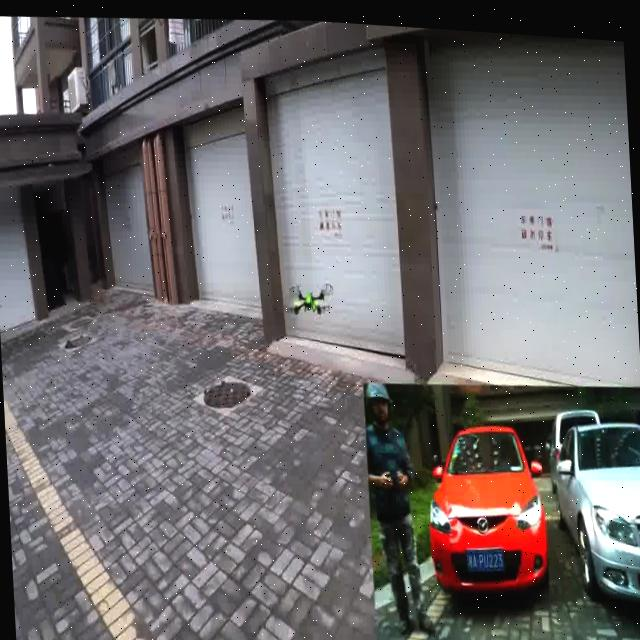drone: (282, 272, 336, 316)
